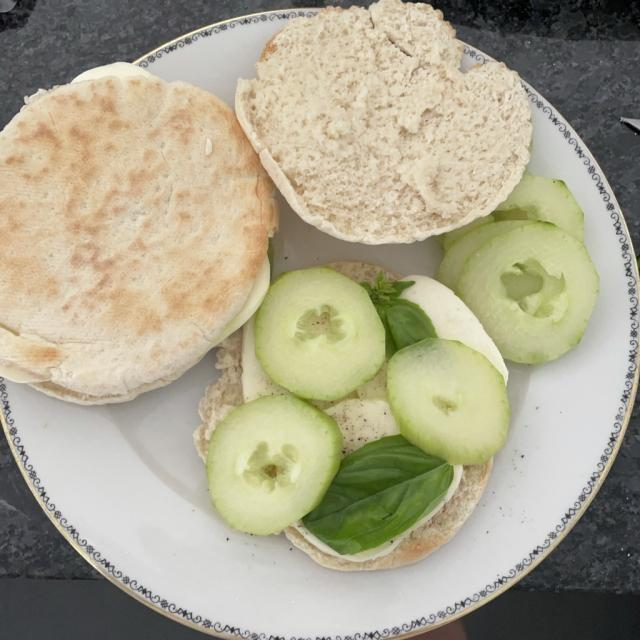cheese: (242, 272, 514, 445)
cucumber: (212, 184, 589, 532)
